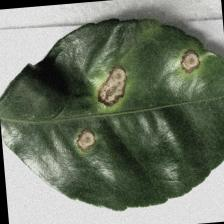canker: (61, 44, 211, 160)
